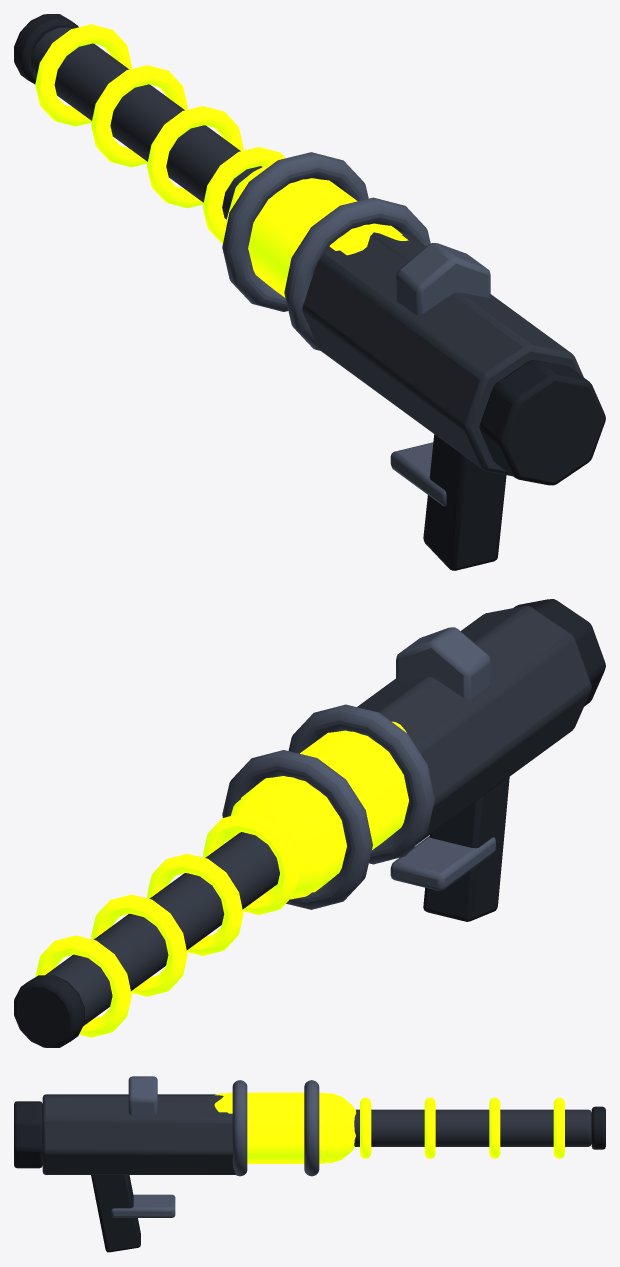
The model's file is wpn_5_ion_splatter.glb.
The picture shows the model from 3 angles, top to bottom: view 1: azimuth 30°, elevation 25°; view 2: azimuth 150°, elevation 25°; view 3: azimuth 270°, elevation 25°; orthographic projection. The views are drawn at different scales.
Visible parts, largest first — view 1: wpn_5_ion_splatter; view 2: wpn_5_ion_splatter; view 3: wpn_5_ion_splatter.
Boxes of the visible parts, x1,y1,x2,y2 form: wpn_5_ion_splatter: (14,14,605,570); wpn_5_ion_splatter: (14,599,605,1047); wpn_5_ion_splatter: (14,1076,605,1252).
Bounding box in the file's own units: 0.1374 × 0.2613 × 0.825.
